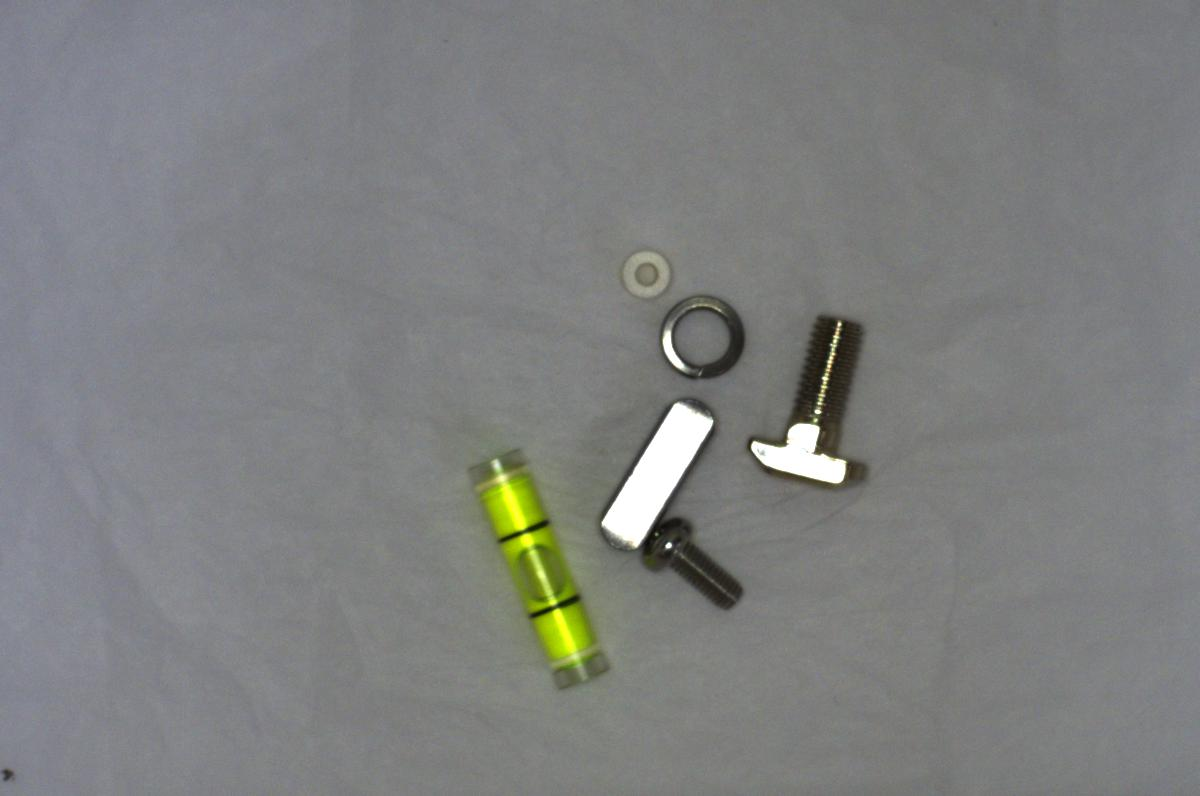Horizontal bubble: (453, 442, 617, 703)
Keybar: (594, 385, 720, 560)
Plastic cushion pillar: (612, 241, 682, 303)
Round head screw: (638, 514, 743, 613)
Spring washer: (647, 294, 761, 382)
T-shaped screw: (739, 306, 876, 498)
